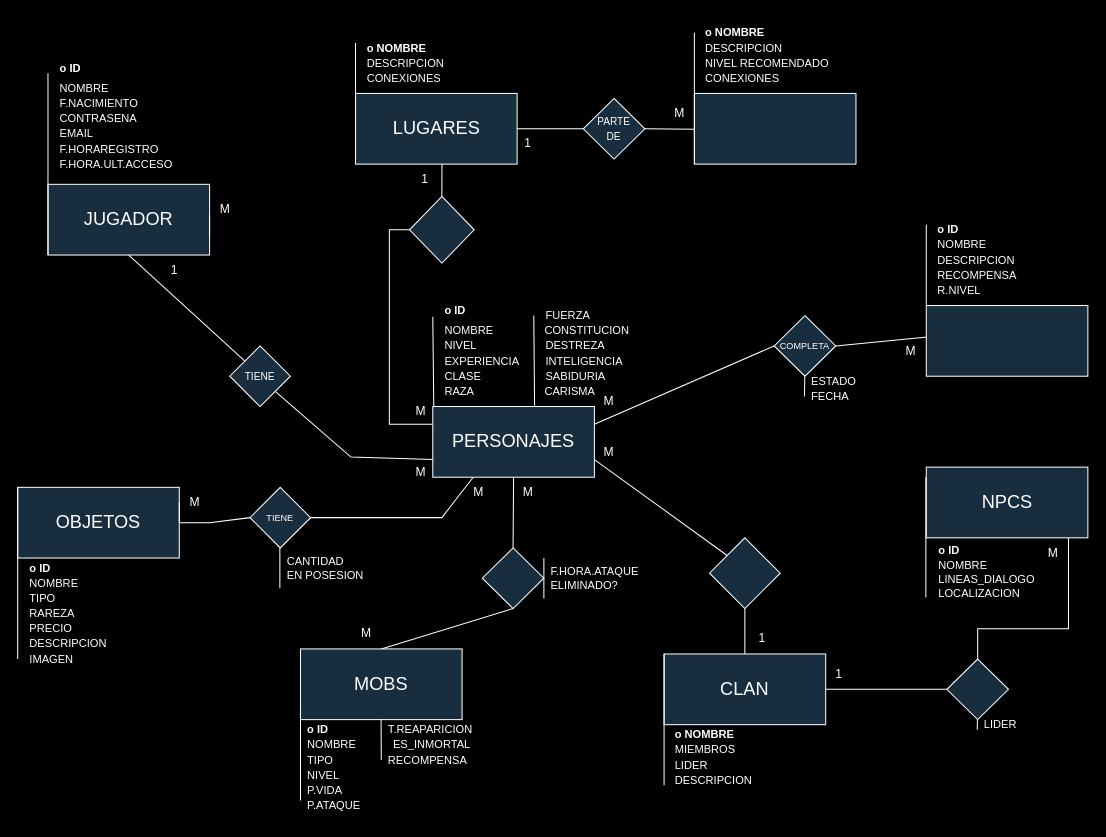
This 1106x837 diagram has some shape labels left out. Here are the shapes that lost their labels. From the top down, the centre of each, then its label:
the point at 774,128: REGIONES
the point at 441,229: ESTÁ EN
the point at 1006,340: MISIONES
the point at 512,578: ATACA
the point at 744,573: PERTENECE
the point at 977,689: LIDERA
